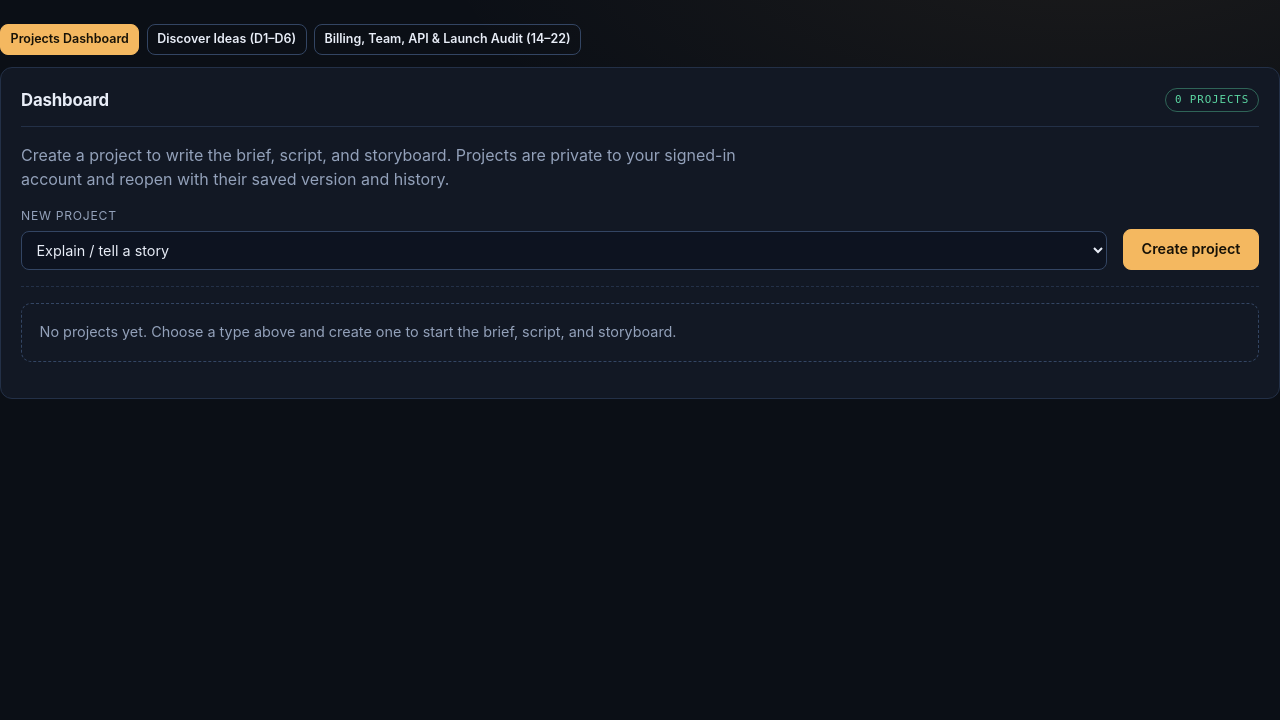
Test: workspace › creates a project from the dashboard, edits the brief, and saves it
Expected: the heading "Dashboard" is shown, left=21, top=90, right=109, bottom=110
Expected: the text "No projects yet" is shown, left=40, top=323, right=676, bottom=340
Select "Product ad" in the dropdown labelled "New project" at (564, 250), box left=21, top=231, right=1107, bottom=270
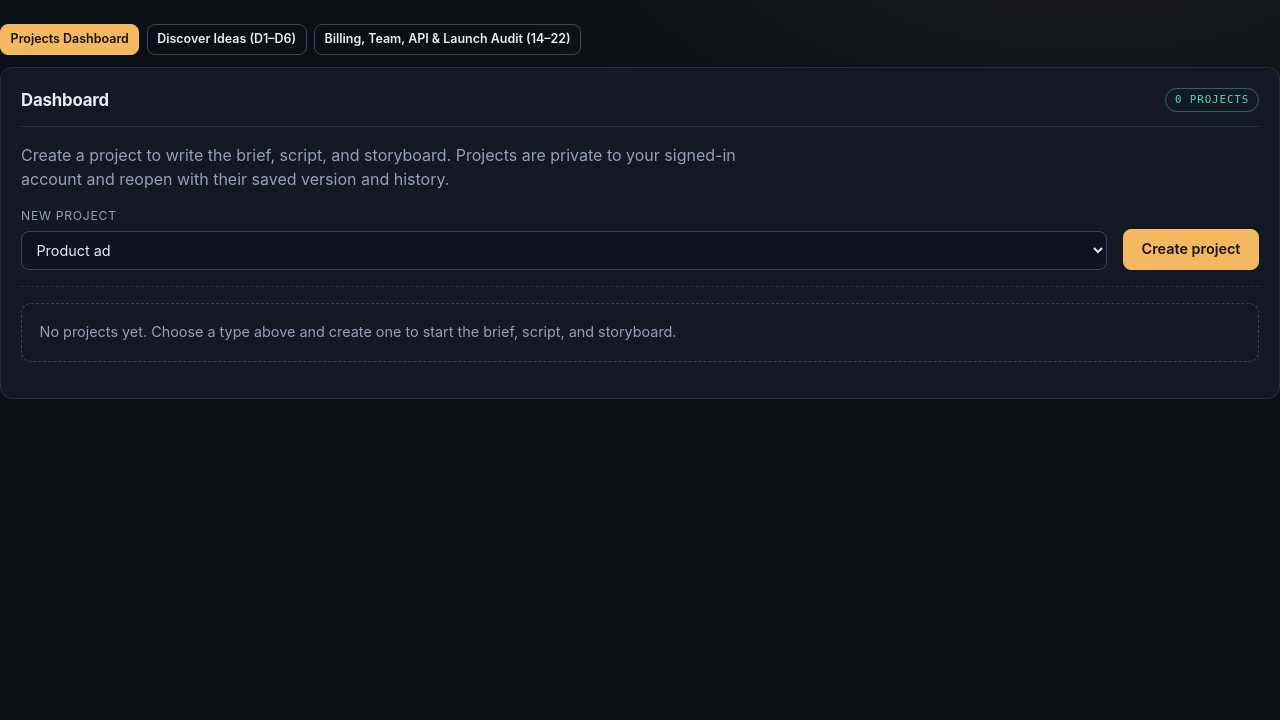
Click the button "Create project" at (1191, 249), box left=1123, top=229, right=1259, bottom=270
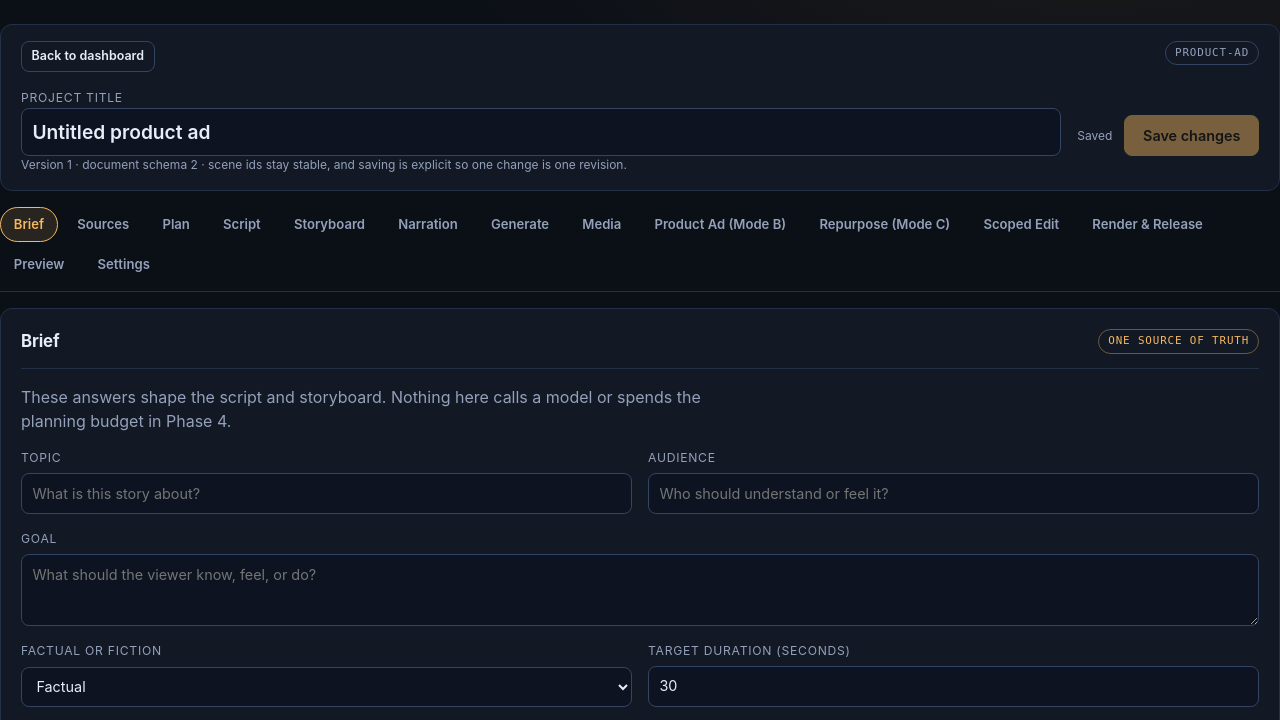
Expected: the field labelled "Project title" holds "Untitled product ad", left=21, top=108, right=1061, bottom=156
Type "A quieter launch" into the field labelled "Topic" at (326, 493), box left=21, top=473, right=632, bottom=514
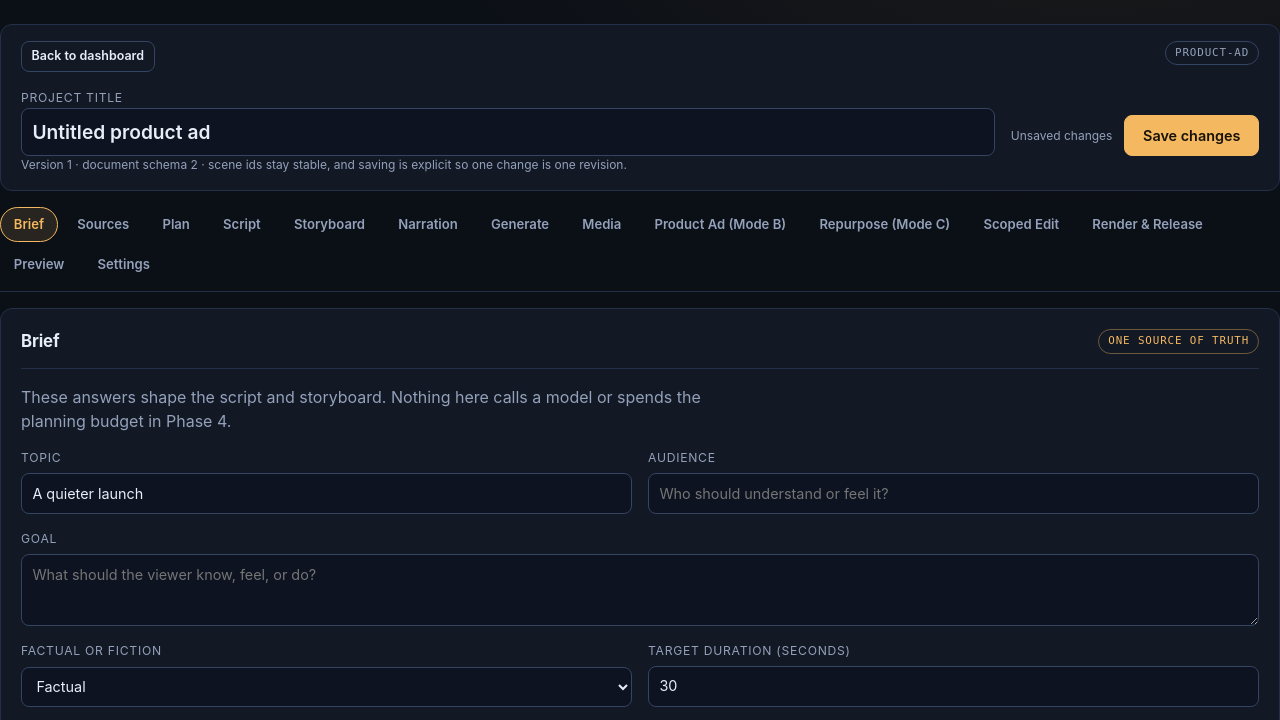
Click the button "Save changes" at (1192, 136), box left=1124, top=115, right=1259, bottom=156
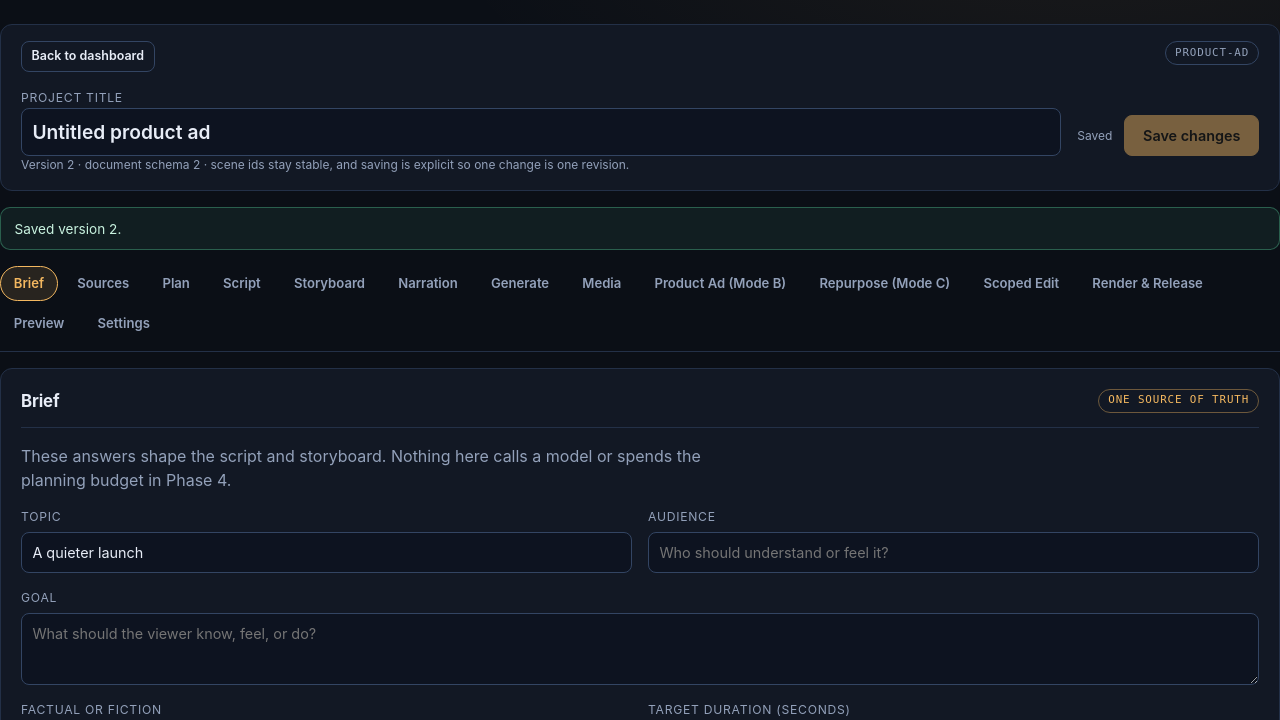
Expected: the text "Saved version 2." is shown, left=0, top=207, right=1279, bottom=250
Click the button "Back to dashboard" at (88, 56), box left=21, top=41, right=155, bottom=72
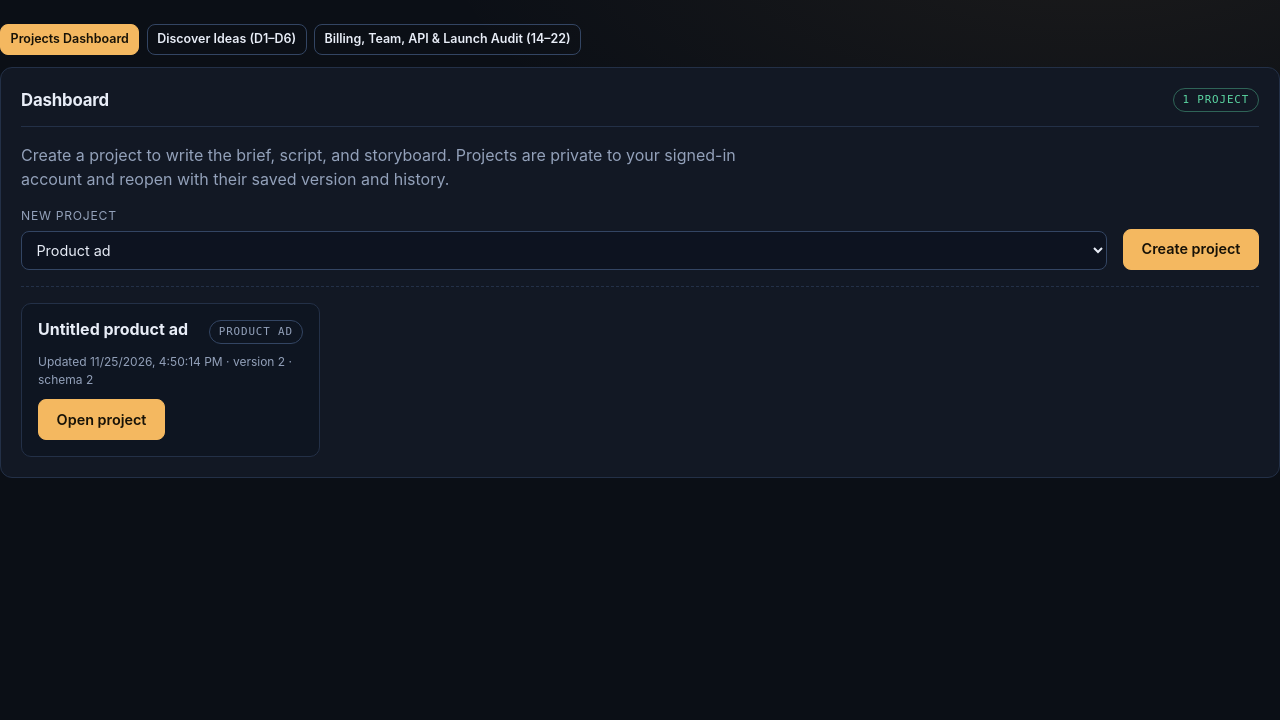
Expected: the button with aria-label "Open Untitled product ad" is shown, left=38, top=399, right=165, bottom=440
